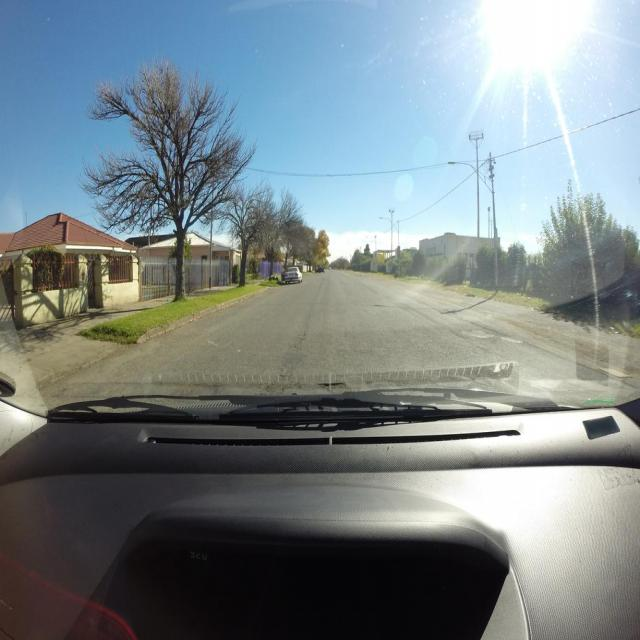Pothole: (500, 334, 524, 344), (462, 330, 496, 337), (316, 382, 348, 389)
